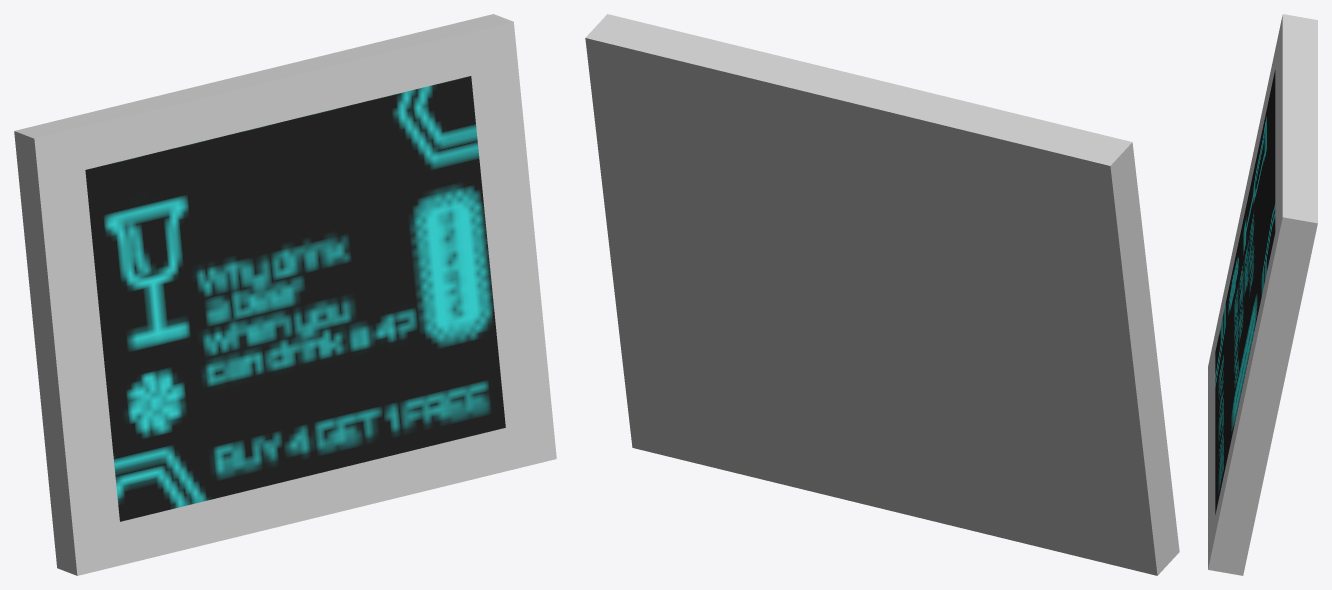
The model's file is SM_TvScreen_01.fbx.
3 views of the same model, side by side, from view 1: azimuth 30°, elevation 25°; view 2: azimuth 150°, elevation 25°; view 3: azimuth 270°, elevation 25° (orthographic). The views are drawn at different scales.
Parts seen in each view (by area): view 1: SM_TvScreen_01; view 2: SM_TvScreen_01; view 3: SM_TvScreen_01.
Boxes of the visible parts, x1,y1,x2,y2 form: SM_TvScreen_01: (14,14,556,575); SM_TvScreen_01: (585,14,1179,575); SM_TvScreen_01: (1208,14,1317,575).
Bounding box in the file's own units: 76.72 × 63.12 × 17.53.
